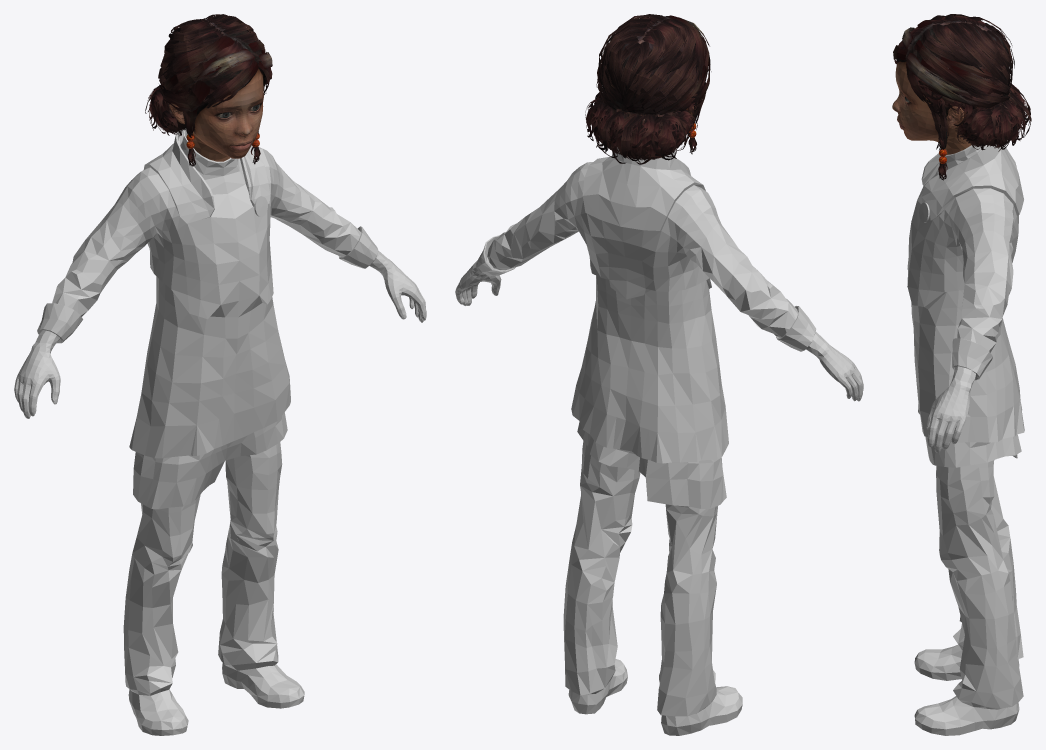
File: nilin_2064.obj
The picture shows the model from 3 angles, left to right: view 1: azimuth 30°, elevation 25°; view 2: azimuth 150°, elevation 25°; view 3: azimuth 270°, elevation 25°; orthographic projection.
Visible parts, largest first — view 1: 2e0d72c0_obj, 2e419e70_obj, 2dbffee8_obj; view 2: 2e0d72c0_obj, 2e419e70_obj, 2dbffee8_obj; view 3: 2e0d72c0_obj, 2e419e70_obj, 2dbffee8_obj.
Part boxes in pixels (<box>): 2e0d72c0_obj: <box>14,128,426,735</box>; 2e419e70_obj: <box>145,14,272,166</box>; 2dbffee8_obj: <box>160,19,266,161</box>; 2e0d72c0_obj: <box>455,147,863,735</box>; 2e419e70_obj: <box>585,14,711,164</box>; 2dbffee8_obj: <box>596,16,708,149</box>; 2e0d72c0_obj: <box>907,144,1024,735</box>; 2e419e70_obj: <box>893,14,1031,180</box>; 2dbffee8_obj: <box>892,20,1018,167</box>.
Size of the model in its own units: 2.18 by 3.55 by 0.6614.
